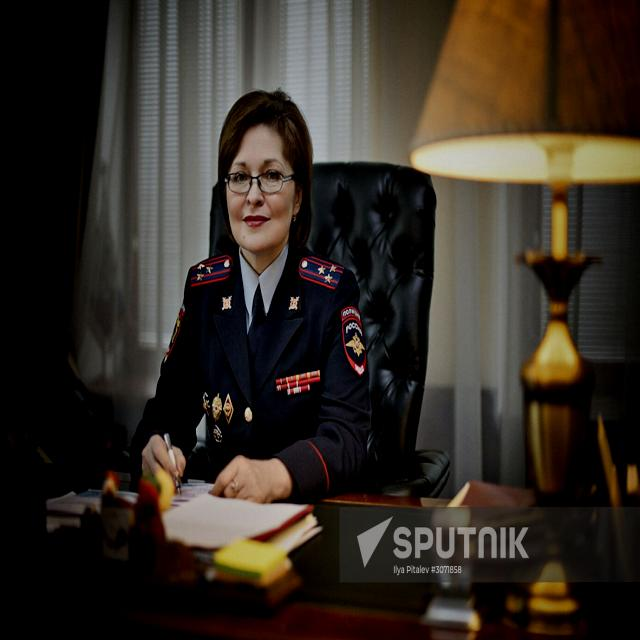police: (126, 42, 407, 556)
